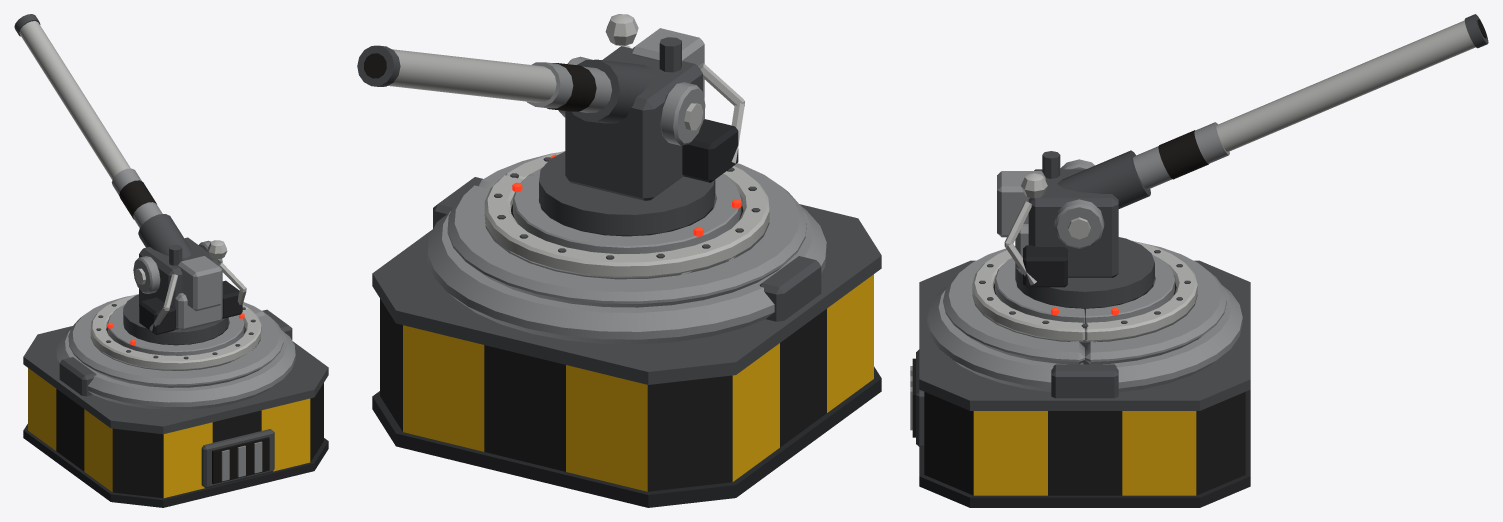
Rendered from artillery-turret.glb.
The picture shows the model from 3 angles, left to right: view 1: azimuth 30°, elevation 25°; view 2: azimuth 150°, elevation 25°; view 3: azimuth 270°, elevation 25°; orthographic projection. The views are drawn at different scales.
Parts seen in each view (by area): view 1: body, anim_turret_head; view 2: body, anim_turret_head; view 3: body, anim_turret_head.
Boxes of the visible parts, bbox=[...] form: body: bbox=[23, 294, 328, 507]; anim_turret_head: bbox=[14, 14, 246, 355]; body: bbox=[372, 151, 881, 507]; anim_turret_head: bbox=[357, 14, 744, 254]; body: bbox=[910, 240, 1250, 507]; anim_turret_head: bbox=[995, 14, 1488, 323].
Bounding box in the file's own units: 2.94 × 4.14 × 5.13.
